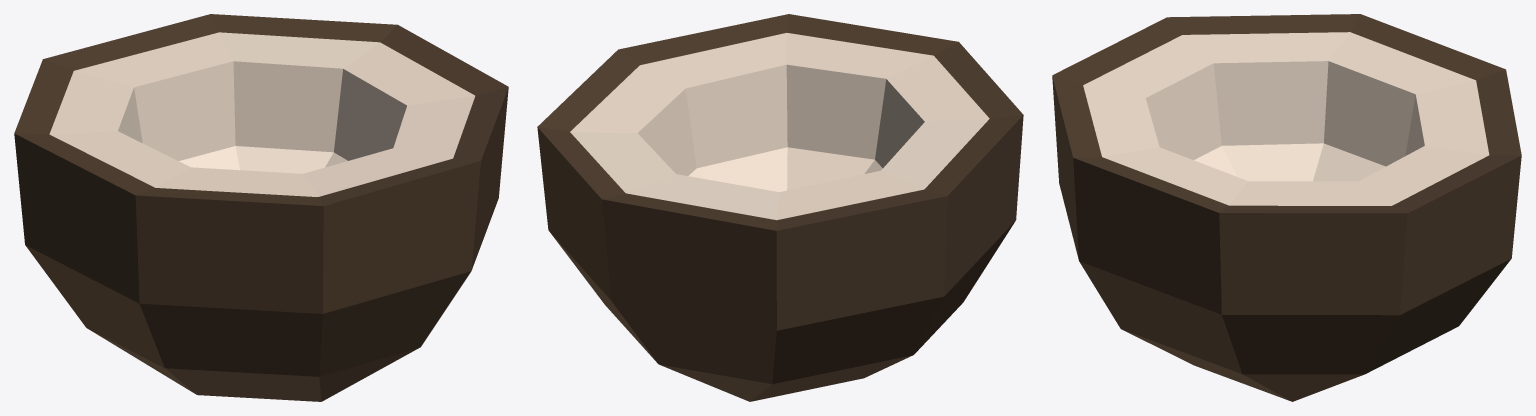
The model's file is food-coconut-open.glb.
3 renders of one model, left to right at view 1: azimuth 30°, elevation 25°; view 2: azimuth 150°, elevation 25°; view 3: azimuth 270°, elevation 25°, orthographic. The views are drawn at different scales.
Parts seen in each view (by area): view 1: coconut-open; view 2: coconut-open; view 3: coconut-open.
Boxes of the visible parts, bbox=[...] form: coconut-open: bbox=[14, 14, 508, 401]; coconut-open: bbox=[537, 14, 1023, 401]; coconut-open: bbox=[1052, 14, 1521, 401].
Bounding box in the file's own units: 0.1573 × 0.0974 × 0.1584.
